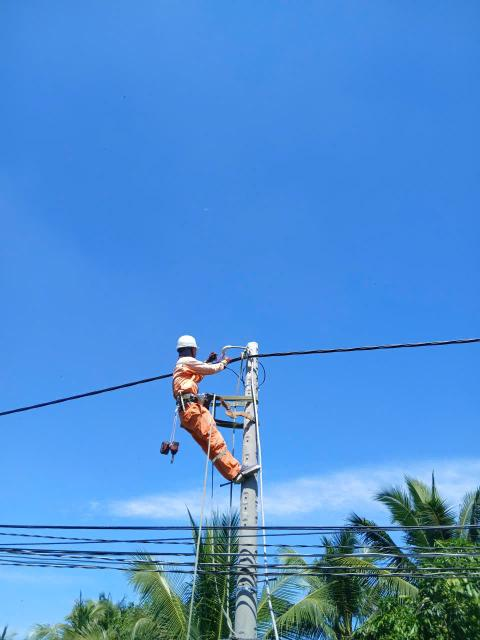gloves: (217, 342, 239, 378), (204, 349, 222, 362)
harness: (166, 390, 223, 407)
helmet: (173, 335, 204, 359)
shoes: (231, 460, 263, 490)
